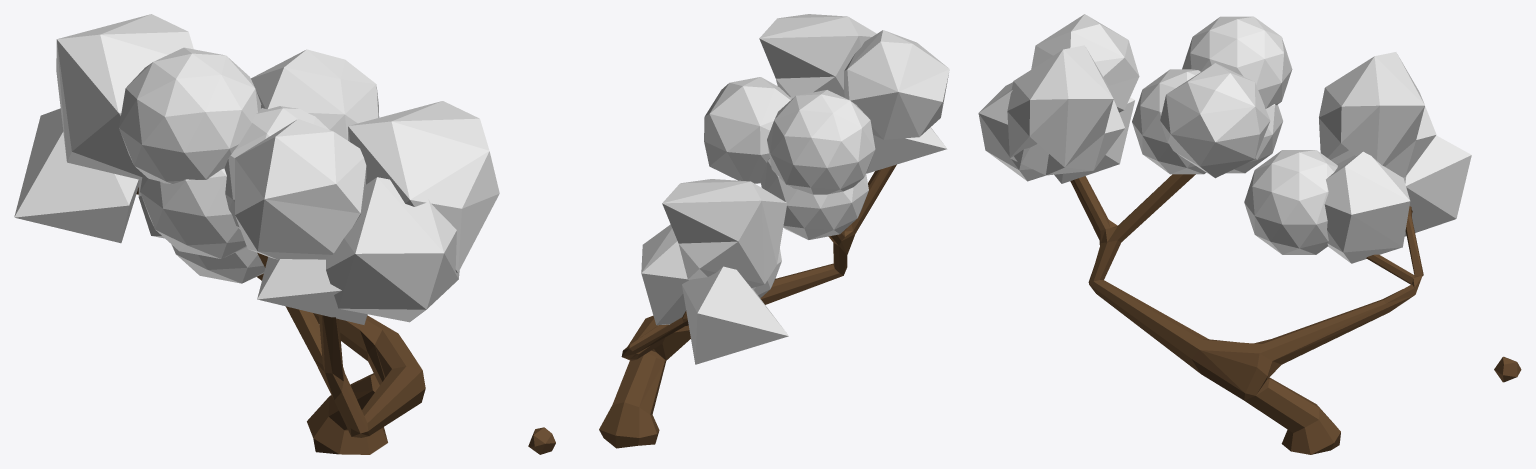
The model's file is tree1.fbx.
3 views of the same model, side by side, from view 1: azimuth 30°, elevation 25°; view 2: azimuth 150°, elevation 25°; view 3: azimuth 270°, elevation 25° (orthographic). The views are drawn at different scales.
Visible parts, largest first — view 1: Icosphere.002, Icosphere.005, Icosphere.010, Icosphere.011, Cube, Icosphere.001, Icosphere.003, Icosphere.006, Icosphere.004, Icosphere.009, Icosphere.007, Icosphere.008; view 2: Icosphere.001, Cube, Icosphere.005, Icosphere.002, Icosphere.010, Icosphere.003, Icosphere.006, Icosphere.004, Icosphere, Icosphere.009; view 3: Cube, Icosphere.010, Icosphere.001, Icosphere.006, Icosphere.008, Icosphere, Icosphere.005, Icosphere.003, Icosphere.002, Icosphere.007, Icosphere.011, Icosphere.009 (+1 smaller).
Part boxes in pixels (<box>): Icosphere.002: <box>235,119,366,259</box>; Icosphere.005: <box>119,47,261,183</box>; Icosphere.010: <box>348,101,499,272</box>; Icosphere.011: <box>326,177,459,322</box>; Cube: <box>136,187,425,454</box>; Icosphere.001: <box>56,14,193,180</box>; Icosphere.003: <box>14,108,138,243</box>; Icosphere.006: <box>251,49,379,140</box>; Icosphere.004: <box>140,168,246,258</box>; Icosphere.009: <box>257,257,367,324</box>; Icosphere.007: <box>224,106,328,229</box>; Icosphere.008: <box>171,244,265,283</box>; Icosphere.001: <box>662,179,787,287</box>; Cube: <box>528,164,896,454</box>; Icosphere.005: <box>767,90,875,194</box>; Icosphere.002: <box>844,30,949,139</box>; Icosphere.010: <box>759,14,876,97</box>; Icosphere.003: <box>682,266,788,364</box>; Icosphere.006: <box>704,77,791,183</box>; Icosphere.004: <box>760,158,868,239</box>; Icosphere: <box>641,224,688,325</box>; Icosphere.009: <box>866,127,946,173</box>; Cube: <box>1070,174,1521,454</box>; Icosphere.010: <box>1007,45,1124,175</box>; Icosphere.001: <box>1319,52,1436,177</box>; Icosphere.006: <box>1160,63,1270,178</box>; Icosphere.008: <box>1244,150,1337,254</box>; Icosphere: <box>1324,151,1410,263</box>; Icosphere.005: <box>1182,16,1292,108</box>; Icosphere.003: <box>1403,135,1471,236</box>; Icosphere.002: <box>1031,14,1139,112</box>; Icosphere.007: <box>1132,69,1206,174</box>; Icosphere.011: <box>978,82,1045,181</box>; Icosphere.009: <box>1054,97,1134,183</box>.
Size of the model in its own units: 479 by 711 by 984.
